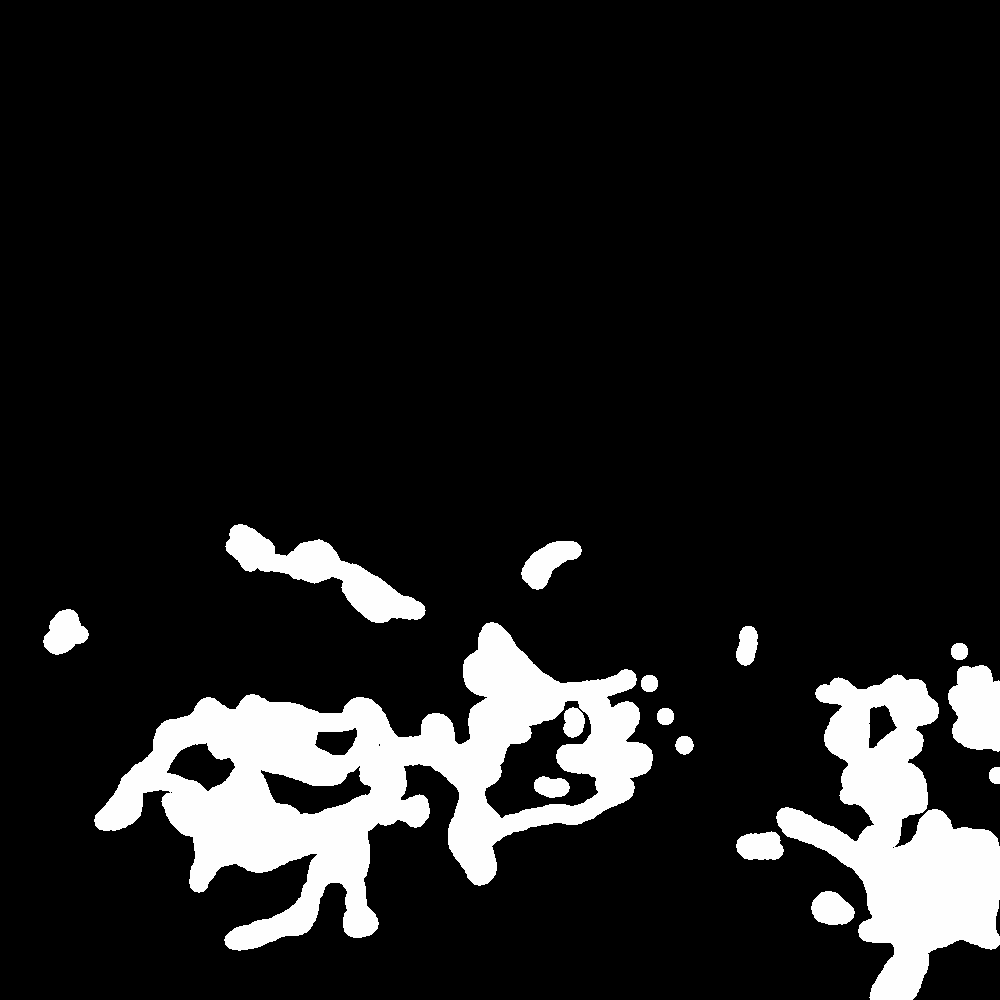illegal: (76, 622, 664, 945), (778, 675, 1000, 1000), (224, 527, 418, 619), (65, 377, 182, 466), (705, 827, 781, 869), (523, 541, 586, 586), (727, 623, 776, 678), (43, 606, 93, 657)
